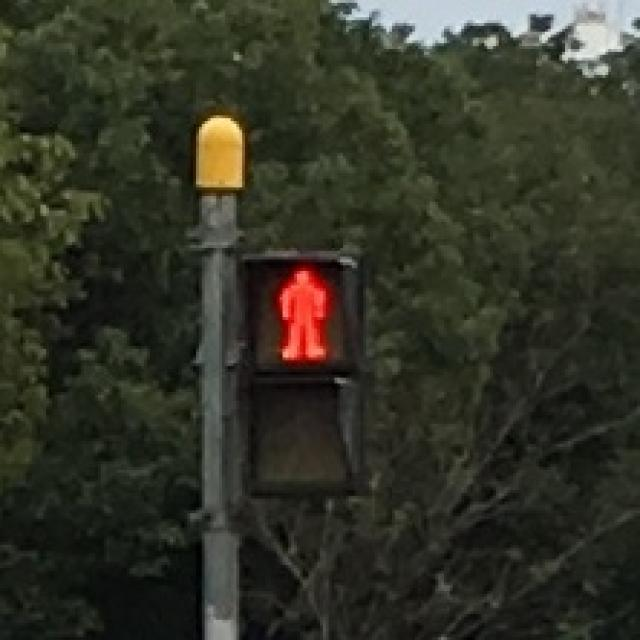red-crossing: (250, 260, 348, 372)
